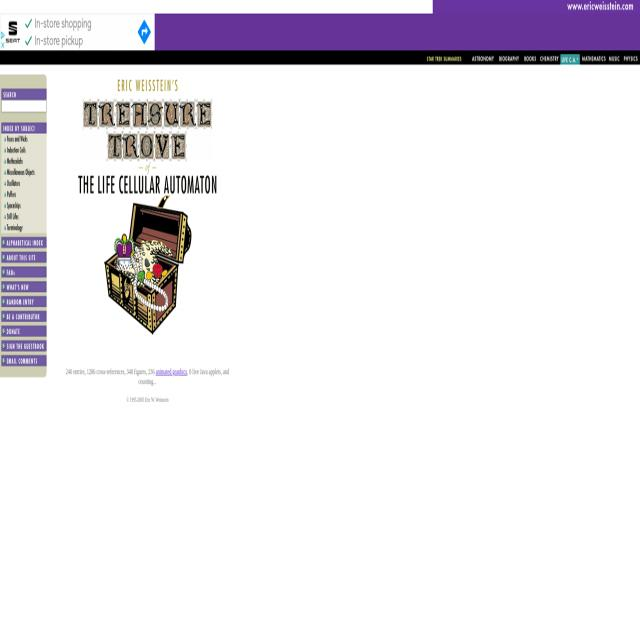button: (104, 194, 191, 336), (83, 98, 212, 162), (0, 13, 154, 50), (78, 174, 217, 194), (115, 74, 180, 98), (425, 50, 463, 64), (2, 157, 46, 166), (2, 179, 46, 188), (2, 190, 46, 199), (2, 201, 46, 210), (2, 212, 46, 221), (1, 238, 45, 247), (1, 297, 45, 306), (1, 312, 45, 321), (1, 356, 45, 365), (496, 50, 522, 64), (580, 50, 606, 64), (470, 50, 496, 64), (1, 90, 45, 98), (1, 124, 45, 132), (2, 135, 46, 143), (2, 146, 46, 154), (2, 168, 46, 176), (2, 224, 46, 232), (1, 253, 45, 261), (1, 268, 45, 276), (1, 283, 45, 291), (1, 327, 45, 335), (1, 342, 45, 350), (538, 50, 560, 64), (560, 50, 580, 64), (621, 52, 640, 65), (522, 50, 538, 64), (138, 162, 156, 174), (607, 50, 621, 64)
field: (1, 100, 47, 112)
